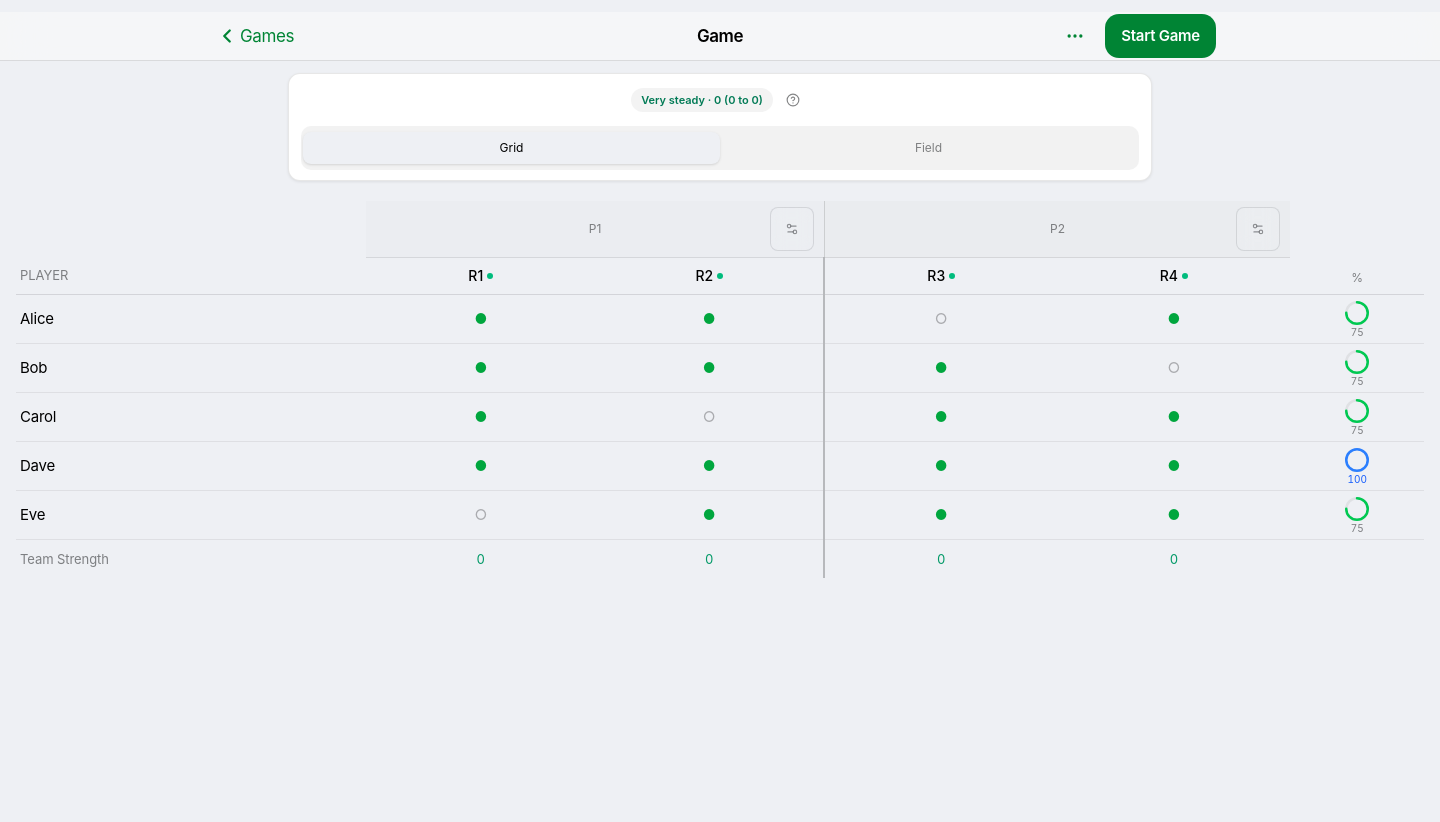
Test: RotationGrid › setup mode › shows a single period indicator in setup field tab and updates it with chevrons
The width and height of the screenshot is (1440, 822).
Click the tab "Field" at (928, 148), box [720,132,1137,164]
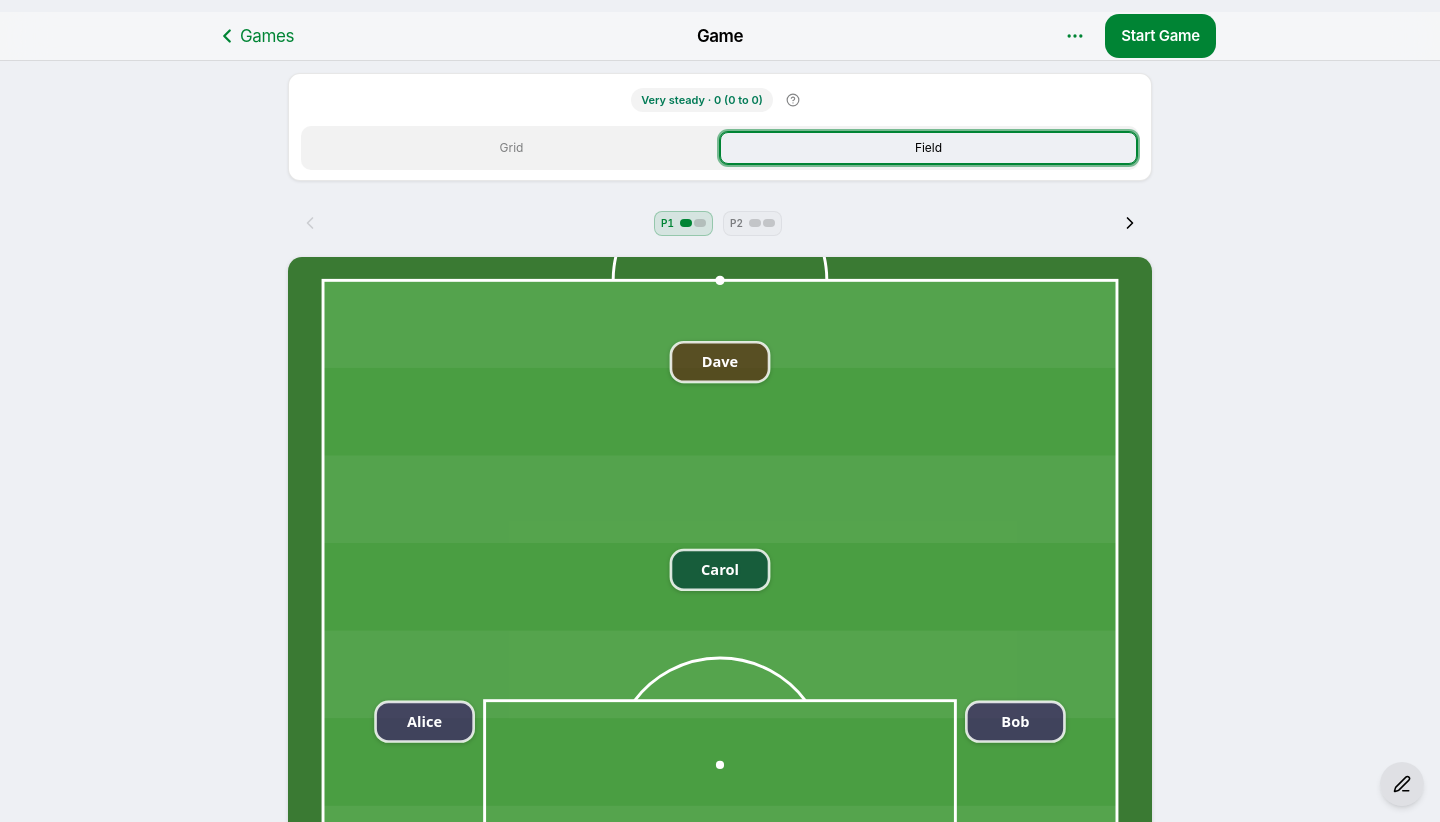
Check: the number of messages titled "Rotation 1 of 4 — Period 1" is 1, box [654,208,786,238]
Click the button named "next rotation" at (1130, 223), box [1108,201,1152,245]
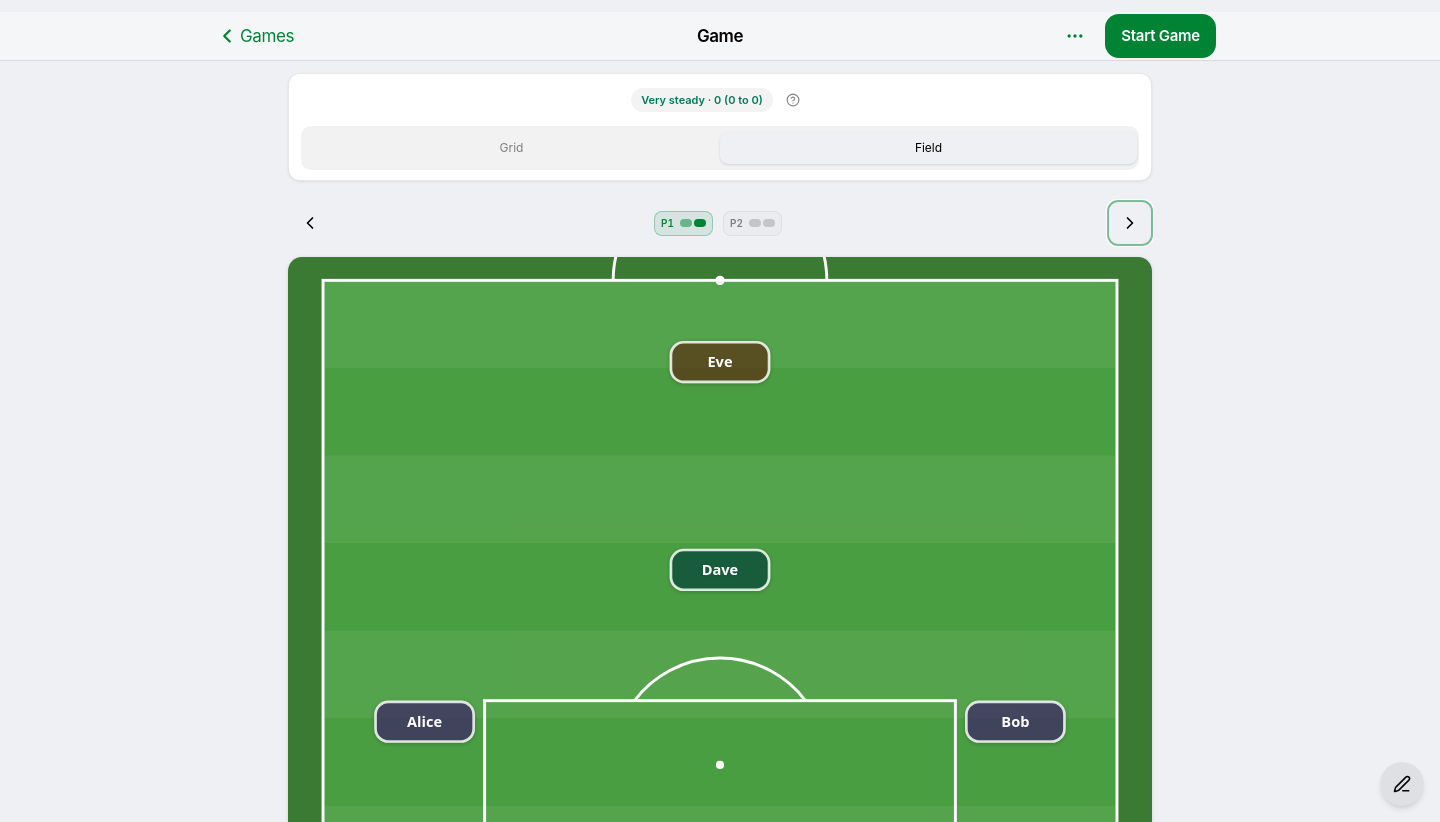
Check: the message titled "Rotation 2 of 4 — Period 1" is shown, box [654,208,786,238]
